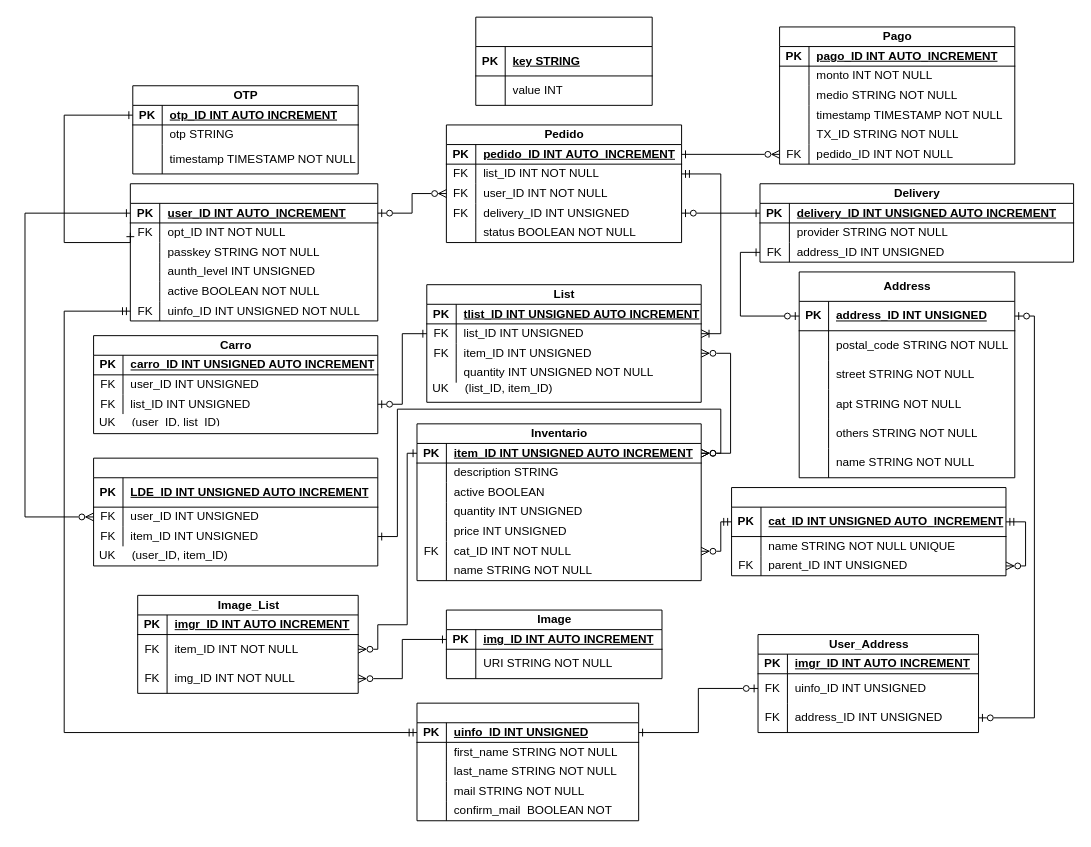
The diagram is 1091 pixels wide and 847 high, and some of its shapes have lost their labels. Each missing label, with the box of its shape:
Categoria: (731, 487, 1006, 576)
Config: (475, 16, 652, 105)
Lista_de_Espera: (93, 457, 378, 566)
User_Info: (416, 702, 639, 821)
Usuario: (129, 183, 378, 321)
